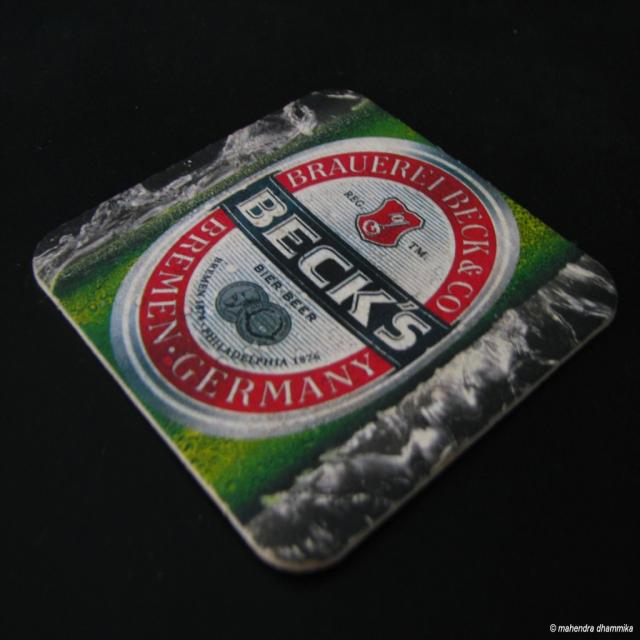becks: (108, 136, 525, 441)
